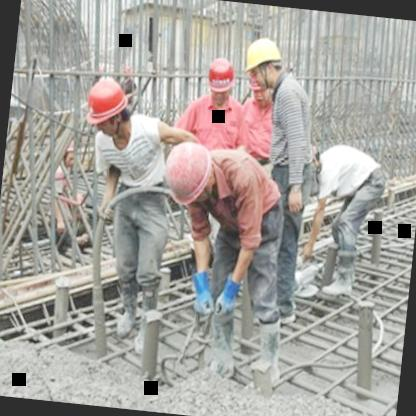helmet: (76, 66, 139, 145), (156, 136, 220, 213), (239, 31, 291, 102), (203, 52, 237, 102)
